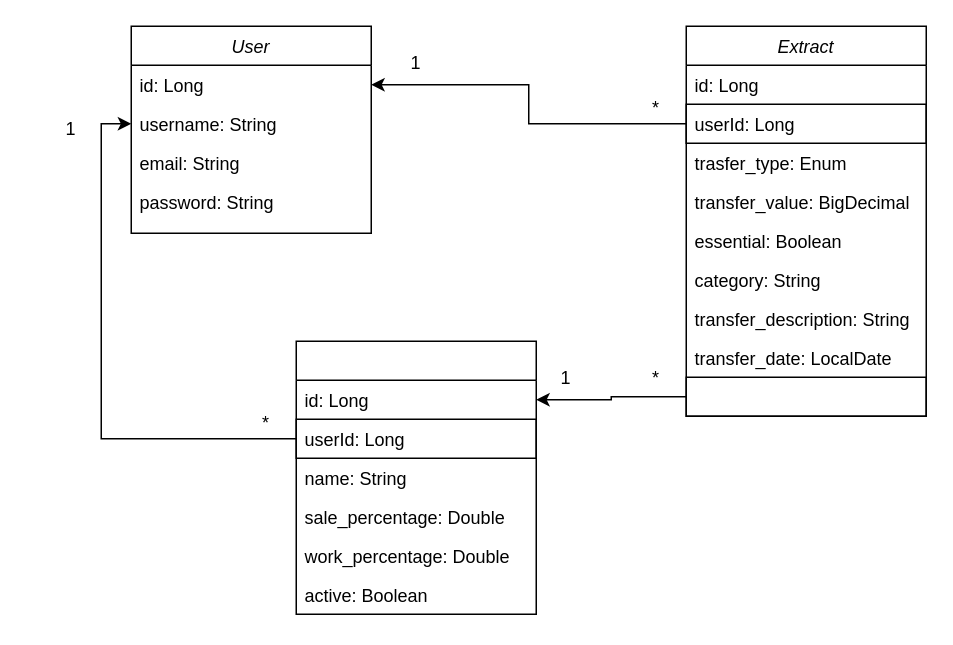
This 953x645 diagram has some shape labels left out. Each missing label, with the box of its shape:
Company: (295, 340, 536, 614)
companyId: Long: (685, 376, 926, 416)
